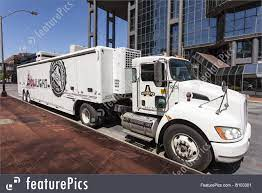truck: (16, 46, 251, 170)
